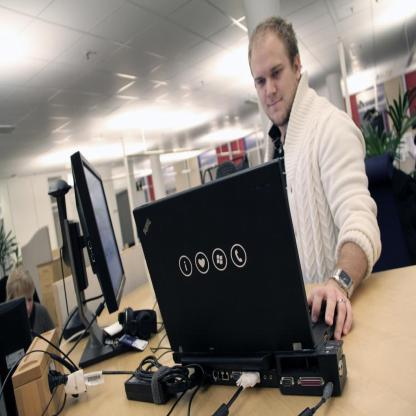board: (133, 156, 338, 388)
